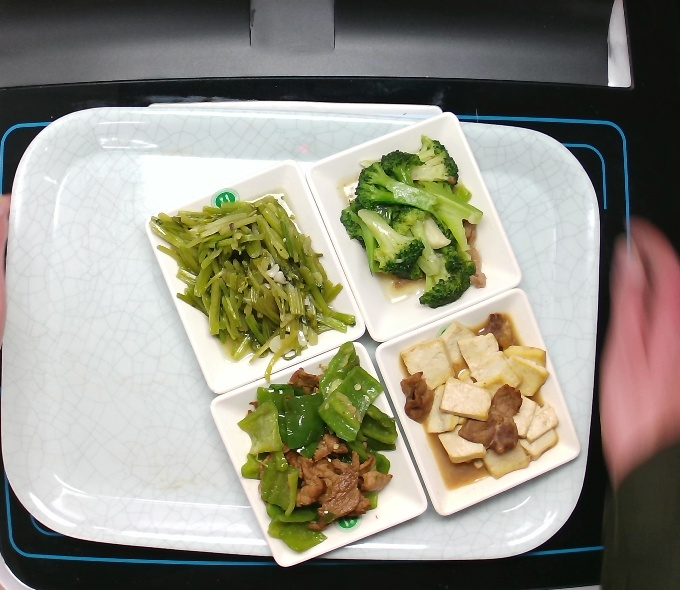wcq-DouFuRouPian: (391, 295, 565, 479)
wcq-QinCai: (149, 193, 358, 366)
wcq-QingJiaoChaoRou: (230, 341, 405, 552)
wcq-XiLanHua: (341, 135, 496, 308)
